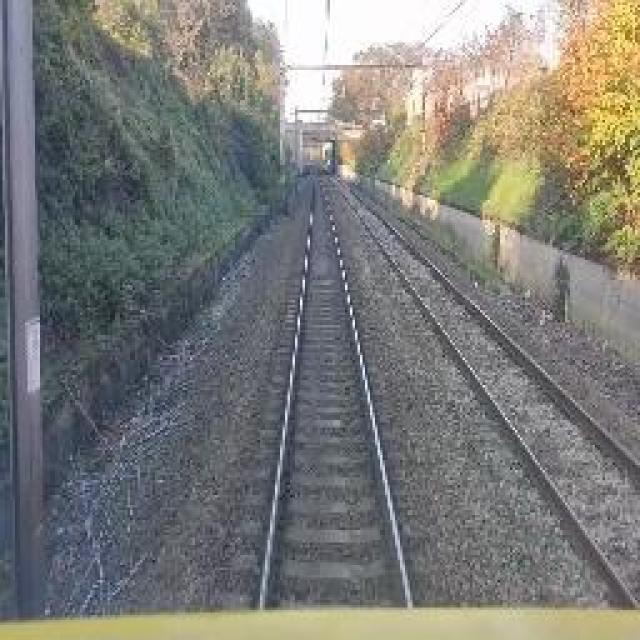rail: (214, 171, 438, 608)
